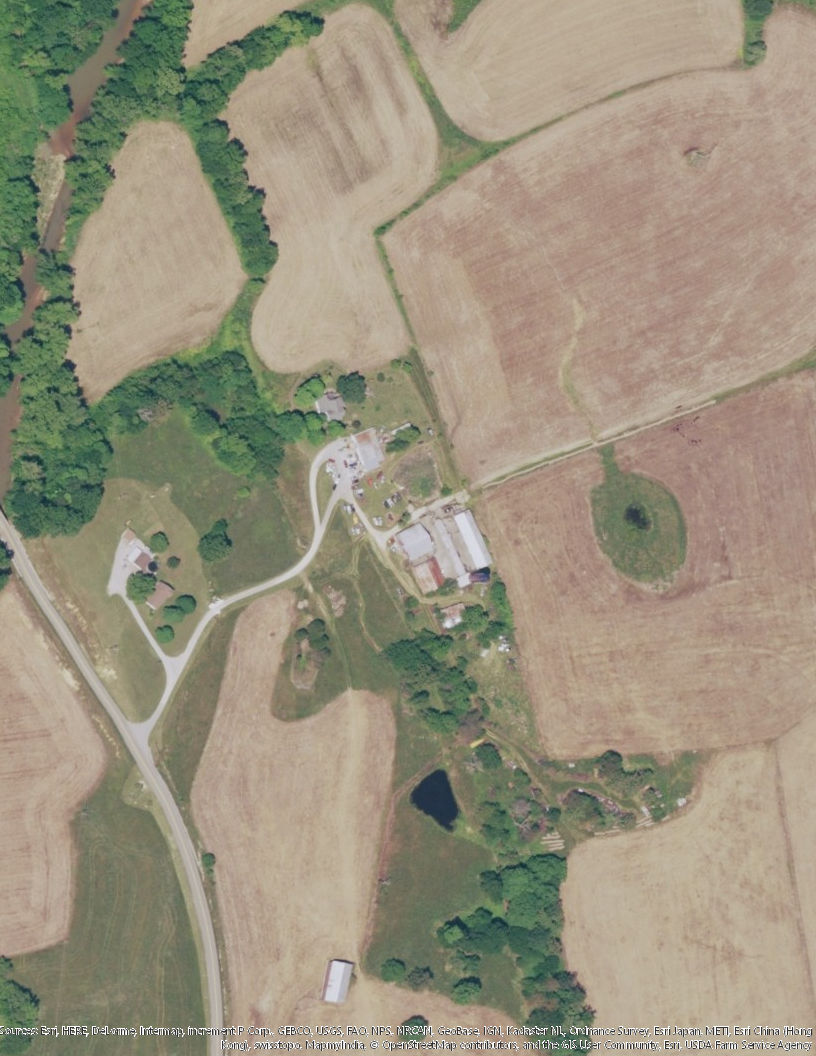cafo: (452, 509, 495, 572)
